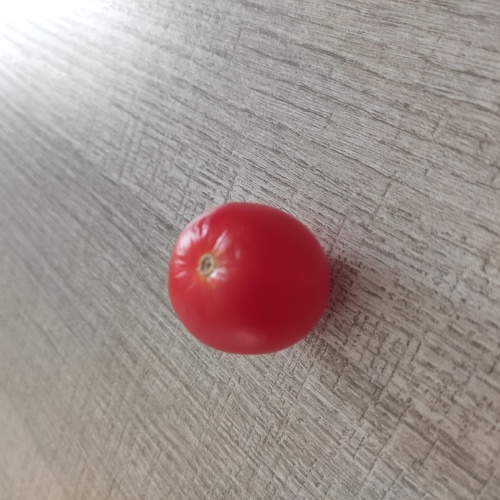pomodoro: (166, 201, 334, 358)
